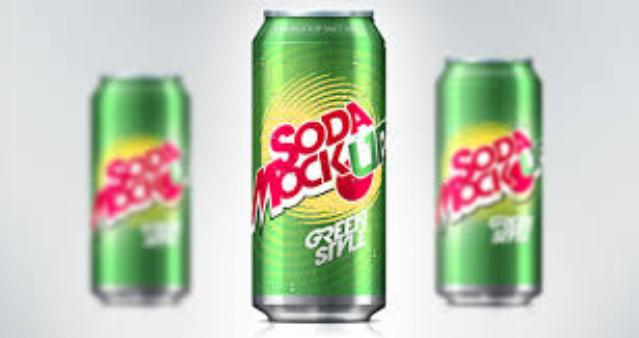metal: (251, 10, 382, 318), (434, 58, 538, 301), (89, 75, 185, 301)
